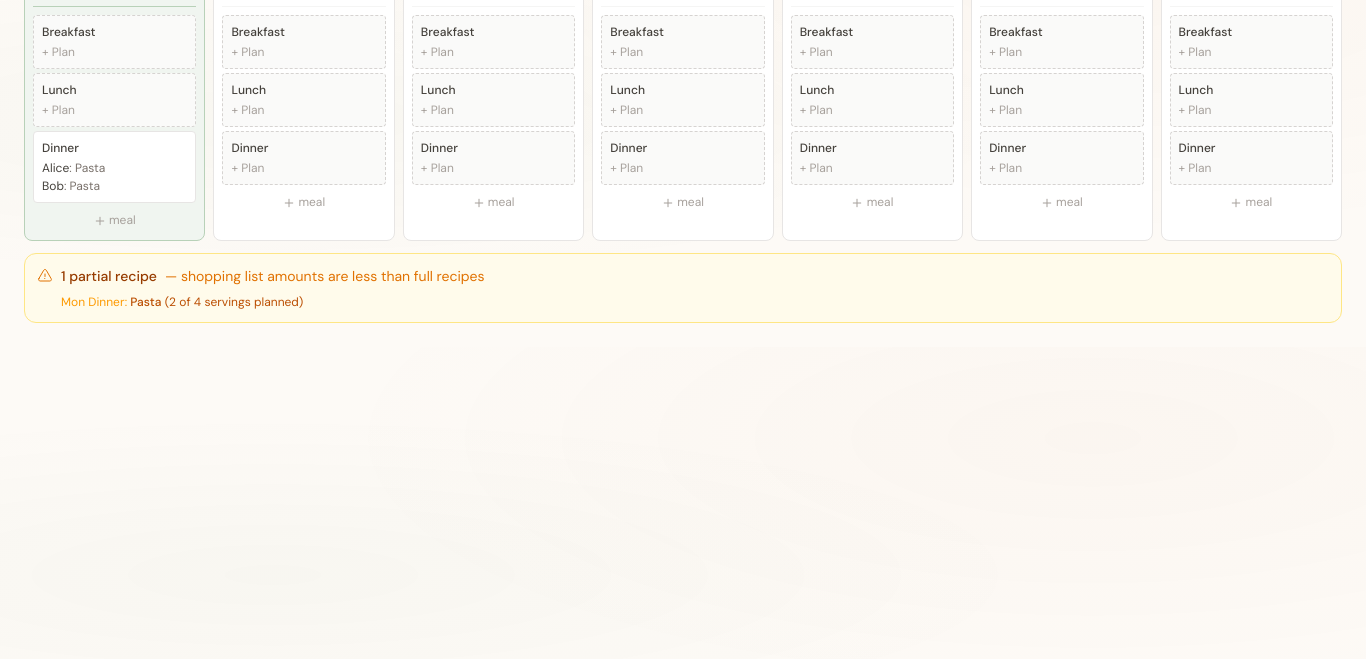
Test: MealPlanner — ServingMismatchBanner wiring › shows the serving-mismatch banner inside the editor when totals < recipe servings
Check: the text "Alice: Pasta" is shown, box top-left (42, 160), bottom-right (105, 176)
# Open the Monday Dinner editor (click the slot containing the existing meal).
Click the button "Dinner Alice: Pasta Bob: Pasta" at coordinates (115, 167), box top-left (33, 131), bottom-right (196, 203)
(page scrolled)
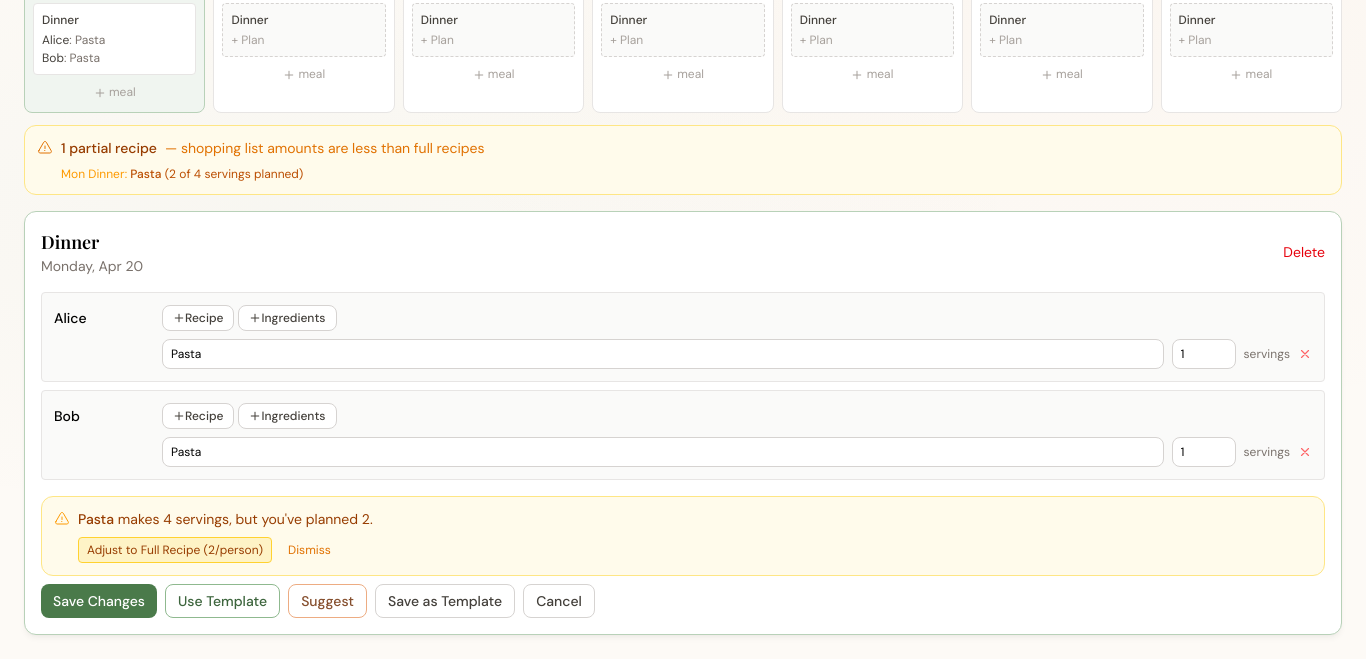
Check: the text "Pasta makes 4 servings, but you've planned 2." is shown, box top-left (78, 510), bottom-right (373, 528)
Check: the button "Adjust to Full Recipe (2/person)" is shown, box top-left (78, 537), bottom-right (272, 563)
